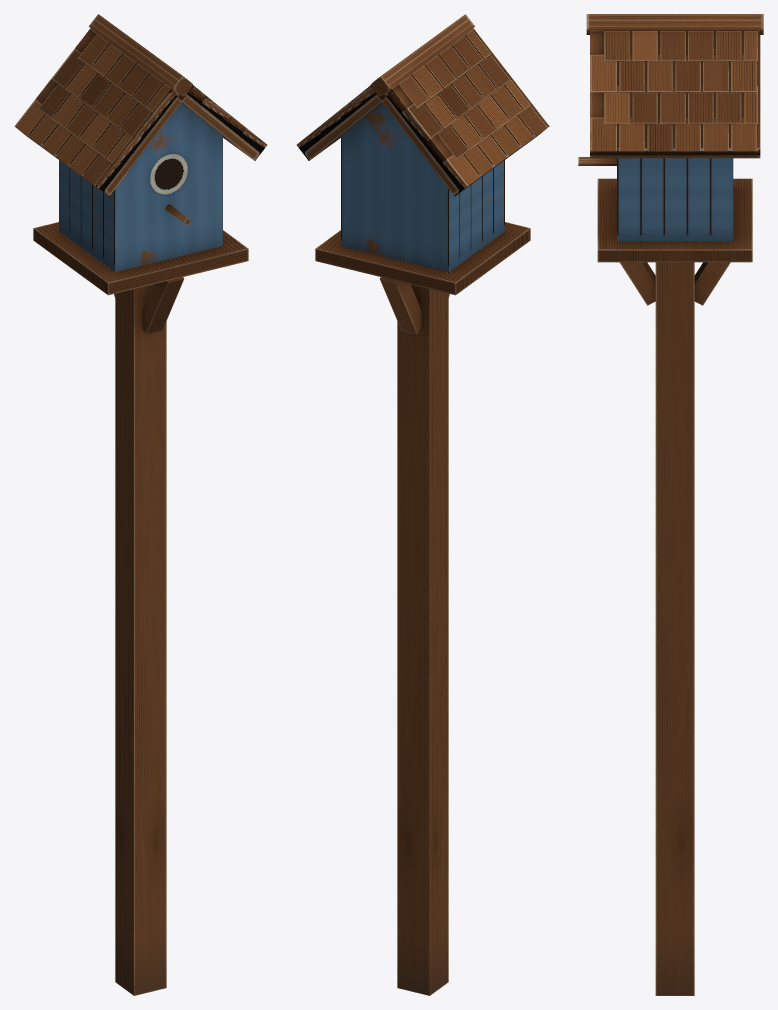
The model's file is Birdhouse_01.fbx.
The picture shows the model from 3 angles, left to right: view 1: azimuth 30°, elevation 25°; view 2: azimuth 150°, elevation 25°; view 3: azimuth 270°, elevation 25°; orthographic projection. The views are drawn at different scales.
Visible parts, largest first — view 1: Birdhouse_01; view 2: Birdhouse_01; view 3: Birdhouse_01.
Boxes of the visible parts, x1,y1,x2,y2 form: Birdhouse_01: [14, 14, 267, 995]; Birdhouse_01: [296, 14, 549, 995]; Birdhouse_01: [578, 14, 763, 995].
Size of the model in its own units: 0.3168 by 1.66 by 0.287.
Materials: 1 (1 with a texture image).
